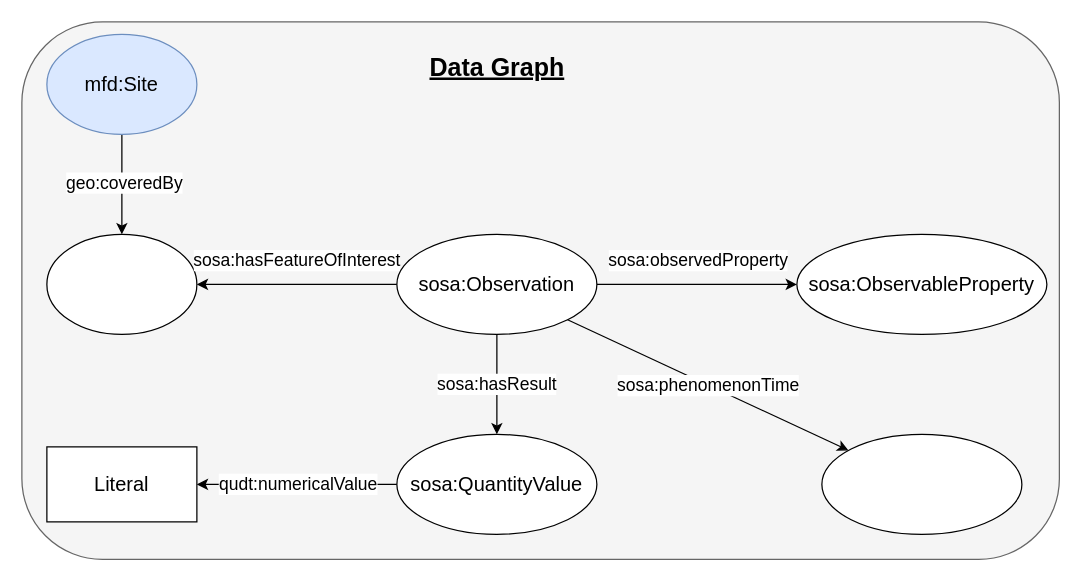
This 1081x581 diagram has some shape labels left out. Each missing label, with the box of its shape:
kwg-ont:S2Cell: (46, 233, 197, 334)
time:TemporalEntity: (821, 433, 1022, 534)
